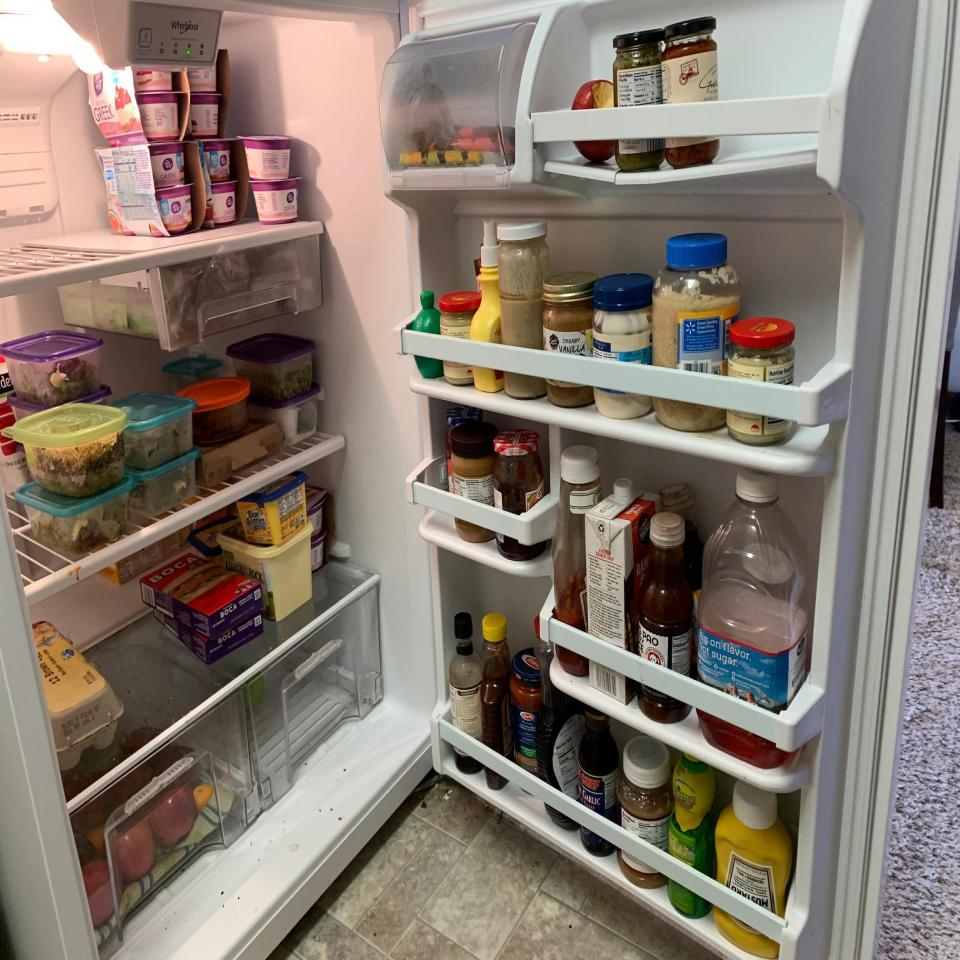Huevos: (31, 622, 125, 770)
Tomate: (79, 860, 121, 926), (150, 783, 194, 844), (113, 817, 154, 880)
Yogur: (237, 134, 294, 180), (249, 178, 306, 224), (138, 91, 184, 141), (155, 183, 200, 234), (150, 142, 188, 188), (189, 94, 222, 139), (200, 139, 234, 182), (209, 181, 240, 226)
ketchup: (552, 443, 602, 677)
lime: (236, 668, 264, 708)
mayonnaise: (592, 273, 654, 418)
mustard: (716, 779, 794, 960)
